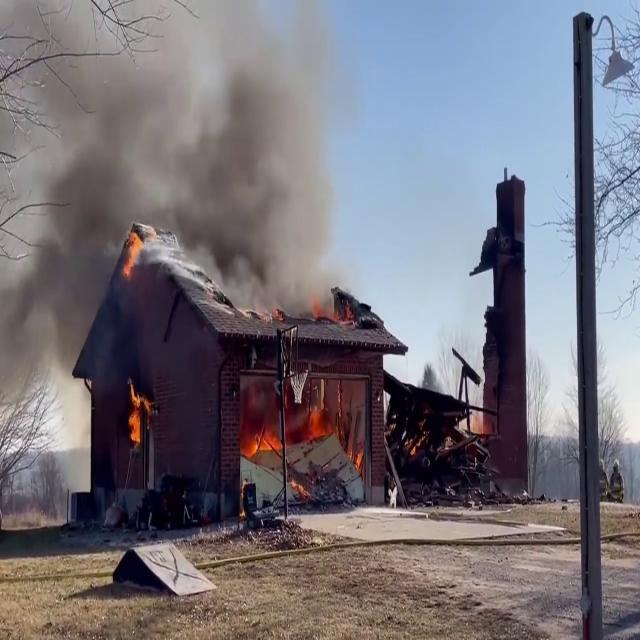Fire: (125, 376, 153, 451), (239, 421, 284, 462)
Smoke: (0, 1, 353, 340)
